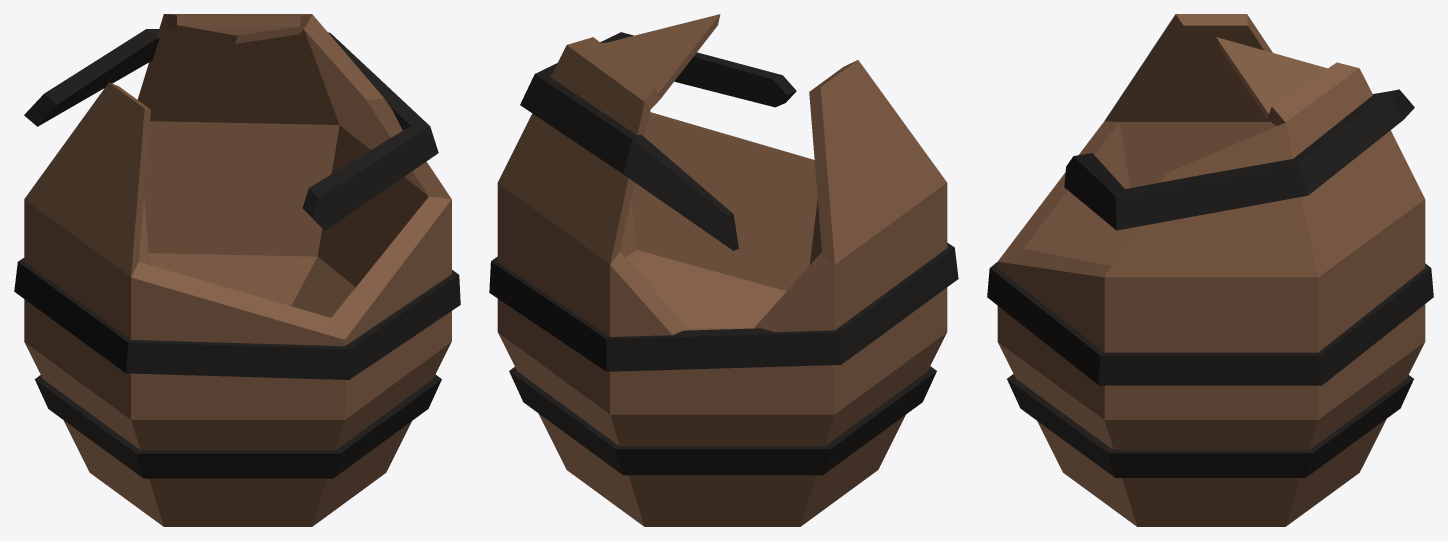
The model's file is Barrel_3.fbx.
3 views of the same model, side by side, from view 1: azimuth 30°, elevation 25°; view 2: azimuth 150°, elevation 25°; view 3: azimuth 270°, elevation 25° (orthographic). The views are drawn at different scales.
Visible parts, largest first — view 1: Barrel_3; view 2: Barrel_3; view 3: Barrel_3.
Boxes of the visible parts, x1=… form: Barrel_3: x1=14, y1=14, x2=460, y2=526; Barrel_3: x1=489, y1=14, x2=958, y2=526; Barrel_3: x1=987, y1=14, x2=1433, y2=526.
Bounding box in the file's own units: 31.59 × 39.28 × 36.51.
